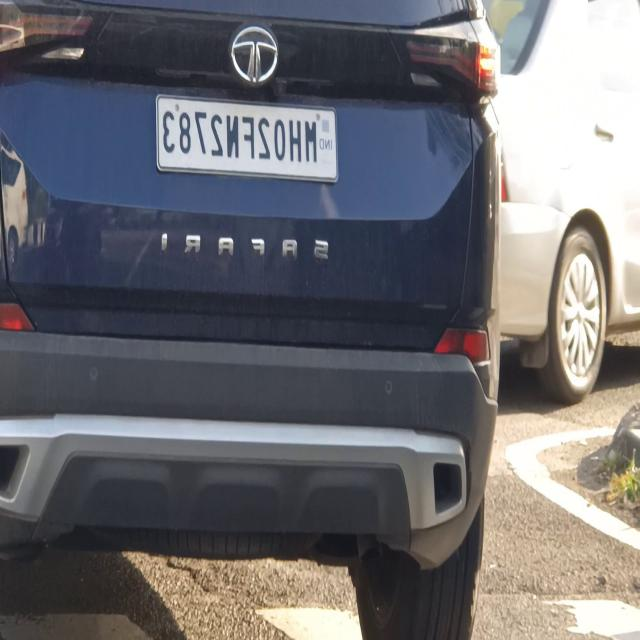license_plate: (151, 84, 340, 184)
